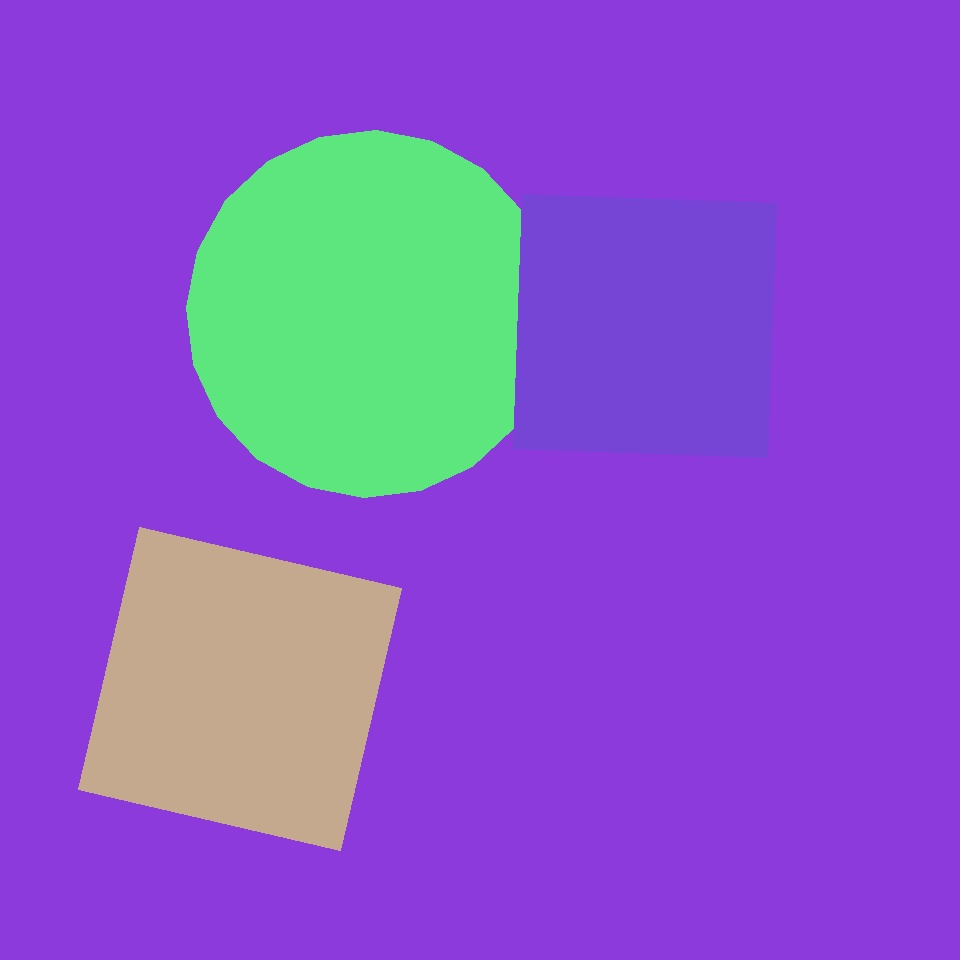circle: (299, 491, 608, 804), (65, 187, 346, 512), (588, 516, 817, 720)
square: (78, 528, 402, 850), (514, 194, 776, 458), (155, 168, 402, 416)
triangle: (187, 131, 554, 497)
